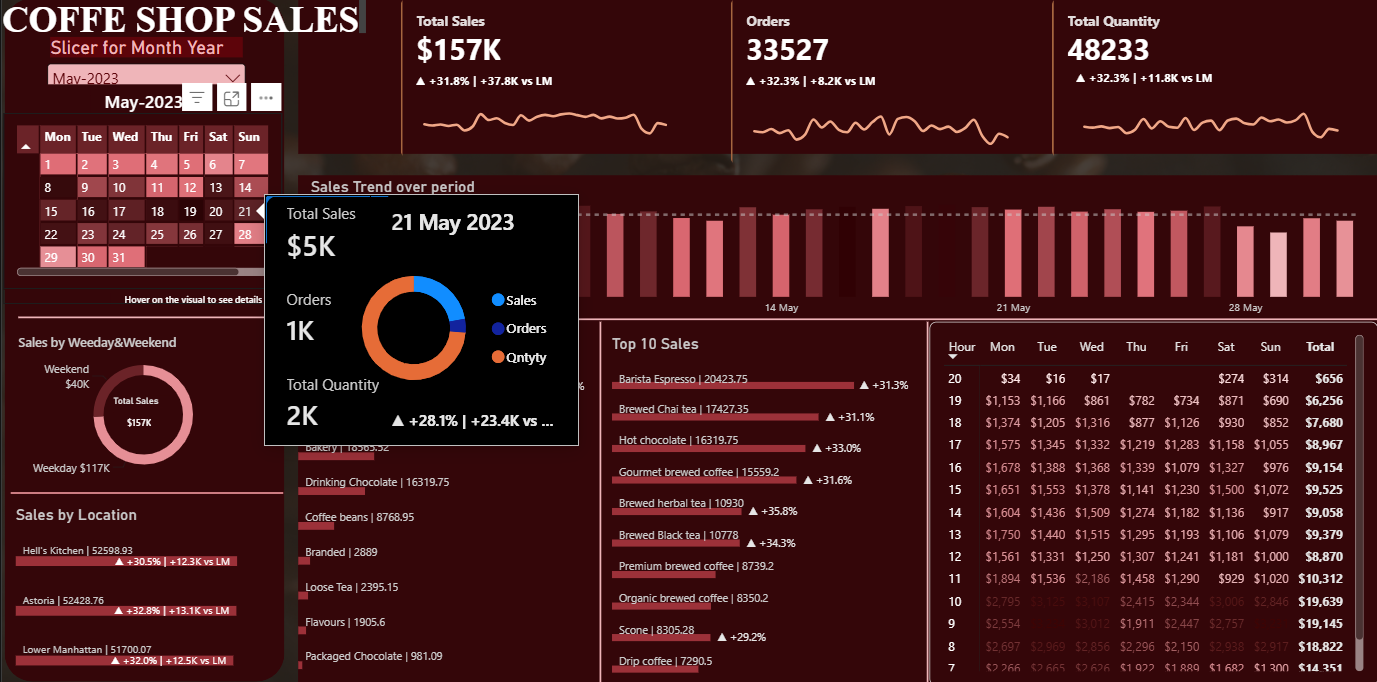

What the dashboard file says about the page in this screenshot:
{"tool":"powerbi","page":{"name":"Page 1","canvas":[1600,800],"ordinal":0},"visuals":[{"type":"shape","box":[344.8,1.9,1254.9,179.8],"z":0},{"type":"cardVisual","fields":{"Data":["Transactions.Tip"]},"box":[126.9,342.8,194.8,13.3],"z":0,"group":"g15"},{"type":"shape","box":[2.9,0,325.6,795.1],"z":1000},{"type":"group","id":"g1","title":"Group 5","box":[1.5,133.7,324.1,205.3],"z":1000,"group":"g15"},{"type":"textbox","box":[0,0,423,45.1],"z":2000},{"type":"cardVisual","fields":{"Data":["Transactions.Total Sales"]},"box":[464,0,376.8,187],"z":3000,"group":"g4"},{"type":"cardVisual","fields":{"Data":["Transactions.Orders"]},"box":[847.8,0,355.1,194.2],"z":3000,"group":"g7"},{"type":"cardVisual","fields":{"Data":["Date Table.Total Quantity"]},"box":[1220.3,0,378.3,187],"z":3000,"group":"g10"},{"type":"slicer","fields":{"Values":["Date Table.Month Year"]},"box":[48,45.1,239.8,55.2],"z":3000},{"type":"group","id":"g2","title":"Group 1","box":[464,0,376.8,187],"z":4000},{"type":"group","id":"g3","title":"Group 1","box":[847.8,0,355.1,194.2],"z":5000},{"type":"lineChart","fields":{"Category":["Date Table.Date.Variation.Date Hierarchy.Year","Date Table.Date.Variation.Date Hierarchy.Quarter","Date Table.Date.Variation.Date Hierarchy.Month","Date Table.Date.Variation.Date Hierarchy.Day"],"Y":["Date Table.Total Quantity"]},"box":[1231.9,67.7,346.4,113.8],"z":5000,"group":"g10"},{"type":"lineChart","fields":{"Category":["Date Table.Date.Variation.Date Hierarchy.Year","Date Table.Date.Variation.Date Hierarchy.Quarter","Date Table.Date.Variation.Date Hierarchy.Month","Date Table.Date.Variation.Date Hierarchy.Day"],"Y":["Transactions.Orders"]},"box":[849.5,72.2,346.4,114.1],"z":5000,"group":"g7"},{"type":"lineChart","fields":{"Category":["Date Table.Date.Variation.Date Hierarchy.Year","Date Table.Date.Variation.Date Hierarchy.Quarter","Date Table.Date.Variation.Date Hierarchy.Month","Date Table.Date.Variation.Date Hierarchy.Day"],"Y":["Transactions.Total Sales"]},"box":[465.4,72.5,332.8,114.3],"z":5000,"group":"g4"},{"type":"group","id":"g4","title":"Group 4","box":[464,0,376.8,187],"z":5002,"group":"g6"},{"type":"group","id":"g5","title":"Group 2","box":[464,0,376.8,187],"z":5002,"group":"g2"},{"type":"group","id":"g6","title":"Group 3","box":[464,0,376.8,187],"z":5002,"group":"g5"},{"type":"group","id":"g7","title":"Group 4","box":[847.8,0,355.1,194.2],"z":5002,"group":"g9"},{"type":"group","id":"g8","title":"Group 2","box":[847.8,0,355.1,194.2],"z":5002,"group":"g3"},{"type":"group","id":"g9","title":"Group 3","box":[847.8,0,355.1,194.2],"z":5002,"group":"g8"},{"type":"group","id":"g10","title":"Group 4","box":[1220.3,0,378.3,187],"z":5002,"group":"g11"},{"type":"group","id":"g11","title":"Group 3","box":[1220.3,0,378.3,187],"z":5002,"group":"g12"},{"type":"group","id":"g12","title":"Group 2","box":[1220.3,0,378.3,187],"z":5002,"group":"g13"},{"type":"group","id":"g13","title":"Group 1","box":[1220.3,0,378.3,187],"z":6000},{"type":"shape","box":[344.8,205.7,1254.9,591.3],"z":7000},{"type":"cardVisual","fields":{"Data":["Min(Date Table.Month Year)"]},"box":[103.2,106.1,130.8,27.6],"z":8000},{"type":"pivotTable","fields":{"Columns":["Date Table.Day Name"],"Rows":["Date Table.Week Nbr"],"Values":["Min(Date Table.Day)"]},"box":[1.5,133.7,324.1,205.3],"z":8000,"group":"g1"},{"type":"group","id":"g14","title":"Group 6","box":[1.5,133.7,324.1,222.4],"z":9000},{"type":"shape","box":[687.7,376.3,16.7,424.5],"z":10000},{"type":"shape","box":[10.2,566.9,316.9,17.4],"z":11000},{"type":"group","id":"g15","title":"Group 7","box":[1.5,133.7,324.1,222.4],"z":11003,"group":"g14"},{"type":"donutChart","title":"Sales by Weeday&Weekend","fields":{"Category":["Date Table.Wekend"],"Y":["Transactions.Total Sales"]},"box":[2.9,375,322.7,200.6],"z":12000},{"type":"cardVisual","title":"Total Sales","fields":{"Data":["Transactions.Total Sales"]},"box":[129.4,462.2,66.9,48],"z":13000},{"type":"clusteredBarChart","title":"Sales by Location","fields":{"Category":["Transactions.store_location"],"Y":["Date Table.Place holder","Transactions.Total Sales"]},"box":[0,575.6,325.6,220.9],"z":14000},{"type":"columnChart","title":"Sales Trend over period","fields":{"Category":["Transactions.transaction_date"],"Y":["Transactions.Total Sales"]},"box":[343.5,194.2,1255.8,193.3],"z":15000},{"type":"group","id":"g16","title":"Group 8","box":[328.1,376.3,364.8,420.6],"z":16000},{"type":"shape","box":[18.7,366.1,319.8,10.2],"z":17000},{"type":"clusteredBarChart","title":"Sales by Category","fields":{"Category":["Transactions.product_category"],"Y":["Date Table.Place holder","Transactions.Total Sales"]},"box":[328.1,376.3,364.8,420.6],"z":17000,"group":"g16"},{"type":"clusteredBarChart","title":"Top 10 Sales","fields":{"Category":["Transactions.product_type"],"Y":["Date Table.Place holder","Transactions.Total Sales"]},"box":[693.2,376.3,376.5,424.5],"z":17000,"group":"g17"},{"type":"group","id":"g17","title":"Group 8","box":[693.2,376.3,376.3,424.5],"z":18000},{"type":"shape","box":[333.6,363.3,1266,20.4],"z":19000},{"type":"shape","box":[1069.5,376.3,13,424.5],"z":20000},{"type":"pivotTable","fields":{"Columns":["Date Table.Day Name"],"Rows":["Transactions.Hour"],"Values":["Transactions.Total Sales"]},"box":[1078.3,376.7,521.7,423.3],"z":21000}]}

Visuals, with their boxes in screenshot pixels (x1, y1, x2, y2), scaled from the page's 1600x800 canvas onto the 1377x682 screenshot:
shape: {"left": 297, "top": 2, "right": 1376, "bottom": 155}
cardVisual - Transactions.Tip: {"left": 109, "top": 292, "right": 277, "bottom": 304}
shape: {"left": 2, "top": 0, "right": 283, "bottom": 678}
"Group 5" group: {"left": 1, "top": 114, "right": 280, "bottom": 289}
textbox: {"left": 0, "top": 0, "right": 364, "bottom": 38}
cardVisual - Transactions.Total Sales: {"left": 399, "top": 0, "right": 724, "bottom": 159}
cardVisual - Transactions.Orders: {"left": 730, "top": 0, "right": 1035, "bottom": 166}
cardVisual - Date Table.Total Quantity: {"left": 1050, "top": 0, "right": 1376, "bottom": 159}
slicer - Date Table.Month Year: {"left": 41, "top": 38, "right": 248, "bottom": 86}
"Group 1" group: {"left": 399, "top": 0, "right": 724, "bottom": 159}
"Group 1" group: {"left": 730, "top": 0, "right": 1035, "bottom": 166}
lineChart - Date Table.Date.Variation.Date Hierarchy.Year x Date Table.Date.Variation.Date Hierarchy.Quarter: {"left": 1060, "top": 58, "right": 1358, "bottom": 155}
lineChart - Date Table.Date.Variation.Date Hierarchy.Year x Date Table.Date.Variation.Date Hierarchy.Quarter: {"left": 731, "top": 62, "right": 1029, "bottom": 159}
lineChart - Date Table.Date.Variation.Date Hierarchy.Year x Date Table.Date.Variation.Date Hierarchy.Quarter: {"left": 401, "top": 62, "right": 687, "bottom": 159}
"Group 4" group: {"left": 399, "top": 0, "right": 724, "bottom": 159}
"Group 2" group: {"left": 399, "top": 0, "right": 724, "bottom": 159}
"Group 3" group: {"left": 399, "top": 0, "right": 724, "bottom": 159}
"Group 4" group: {"left": 730, "top": 0, "right": 1035, "bottom": 166}
"Group 2" group: {"left": 730, "top": 0, "right": 1035, "bottom": 166}
"Group 3" group: {"left": 730, "top": 0, "right": 1035, "bottom": 166}
"Group 4" group: {"left": 1050, "top": 0, "right": 1376, "bottom": 159}
"Group 3" group: {"left": 1050, "top": 0, "right": 1376, "bottom": 159}
"Group 2" group: {"left": 1050, "top": 0, "right": 1376, "bottom": 159}
"Group 1" group: {"left": 1050, "top": 0, "right": 1376, "bottom": 159}
shape: {"left": 297, "top": 175, "right": 1376, "bottom": 679}
cardVisual - Min(Date Table.Month Year): {"left": 89, "top": 90, "right": 201, "bottom": 114}
pivotTable - Date Table.Day Name x Date Table.Week Nbr: {"left": 1, "top": 114, "right": 280, "bottom": 289}
"Group 6" group: {"left": 1, "top": 114, "right": 280, "bottom": 304}
shape: {"left": 592, "top": 321, "right": 606, "bottom": 681}
shape: {"left": 9, "top": 483, "right": 282, "bottom": 498}
"Group 7" group: {"left": 1, "top": 114, "right": 280, "bottom": 304}
"Sales by Weeday&Weekend" donutChart: {"left": 2, "top": 320, "right": 280, "bottom": 491}
"Total Sales" cardVisual: {"left": 111, "top": 394, "right": 169, "bottom": 435}
"Sales by Location" clusteredBarChart: {"left": 0, "top": 491, "right": 280, "bottom": 679}
"Sales Trend over period" columnChart: {"left": 296, "top": 166, "right": 1376, "bottom": 330}
"Group 8" group: {"left": 282, "top": 321, "right": 596, "bottom": 679}
shape: {"left": 16, "top": 312, "right": 291, "bottom": 321}
"Sales by Category" clusteredBarChart: {"left": 282, "top": 321, "right": 596, "bottom": 679}
"Top 10 Sales" clusteredBarChart: {"left": 597, "top": 321, "right": 921, "bottom": 681}
"Group 8" group: {"left": 597, "top": 321, "right": 920, "bottom": 681}
shape: {"left": 287, "top": 310, "right": 1376, "bottom": 327}
shape: {"left": 920, "top": 321, "right": 932, "bottom": 681}
pivotTable - Date Table.Day Name x Transactions.Hour: {"left": 928, "top": 321, "right": 1376, "bottom": 681}
